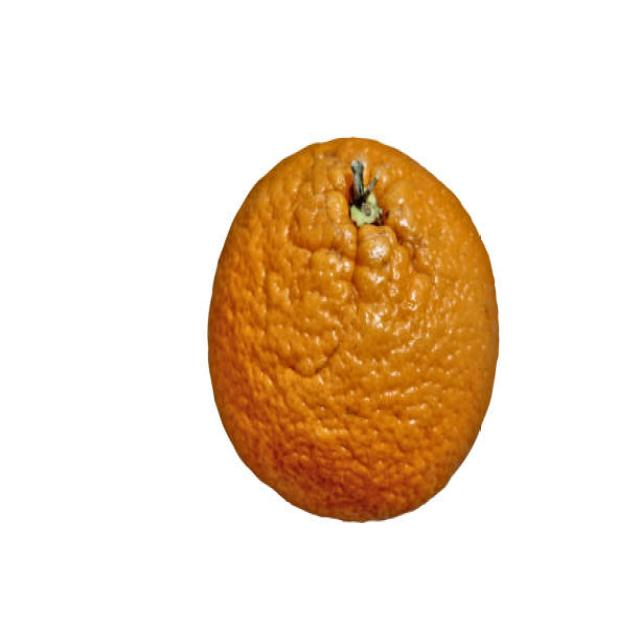overripe: (201, 129, 505, 530)
